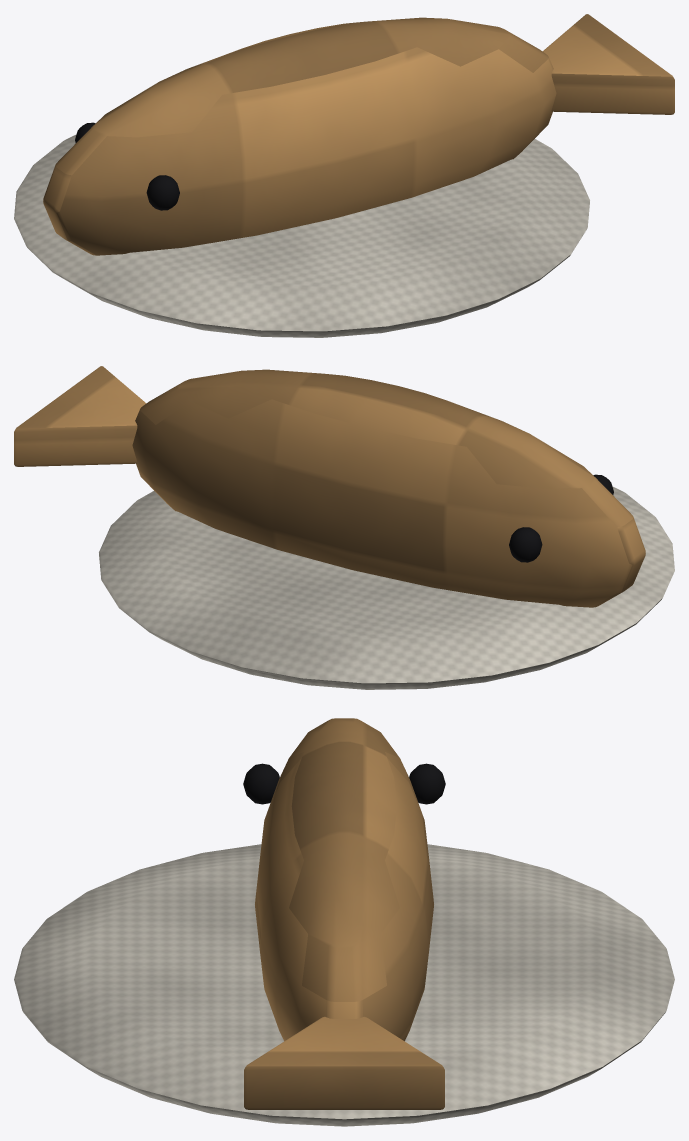
File: prop_fish_treat.glb
The picture shows the model from 3 angles, top to bottom: view 1: azimuth 30°, elevation 25°; view 2: azimuth 150°, elevation 25°; view 3: azimuth 270°, elevation 25°; orthographic projection. The views are drawn at different scales.
Visible parts, largest first — view 1: prop_fish_treat; view 2: prop_fish_treat; view 3: prop_fish_treat.
Boxes of the visible parts, bbox=[...] form: prop_fish_treat: bbox=[14, 14, 674, 337]; prop_fish_treat: bbox=[14, 366, 674, 689]; prop_fish_treat: bbox=[14, 718, 674, 1126].
Bounding box in the file's own units: 0.3005 × 0.105 × 0.2579.
3 materials, 3 textured.
